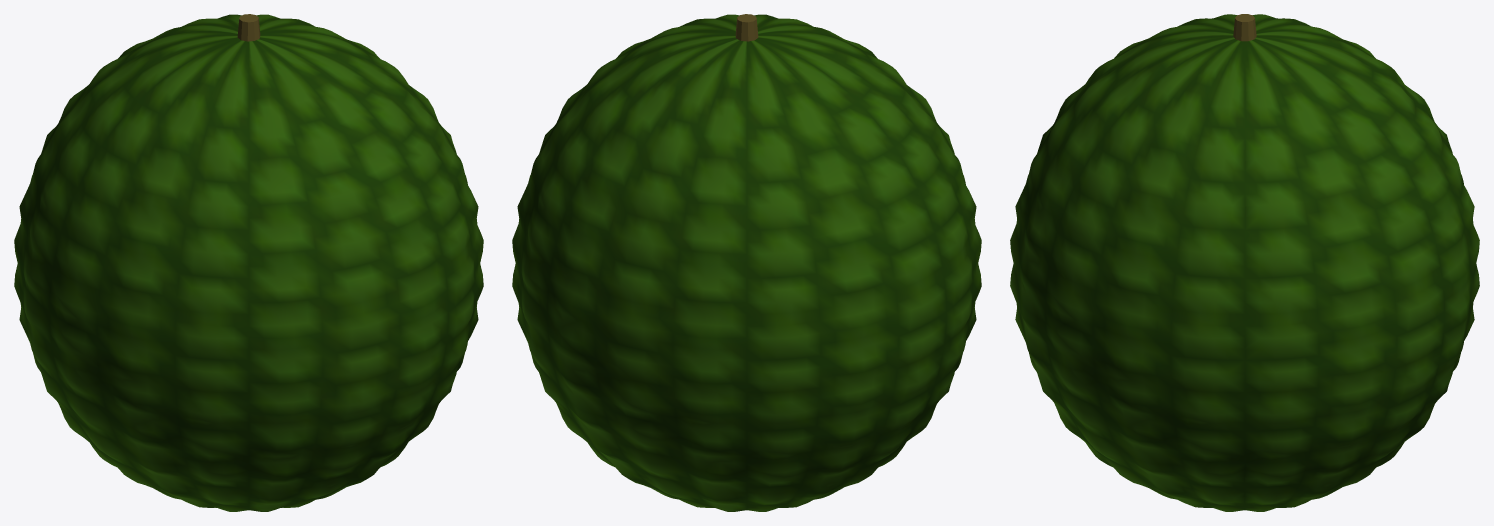
File: fruit-a-pain.glb
3 views of the same model, side by side, from view 1: azimuth 30°, elevation 25°; view 2: azimuth 150°, elevation 25°; view 3: azimuth 270°, elevation 25° (orthographic).
Visible parts, largest first — view 1: entier_peau, moitie_B_peau, moitie_A_peau, entier_extra0; view 2: entier_peau, moitie_A_peau, moitie_B_peau, entier_extra0; view 3: entier_peau, moitie_A_peau, moitie_B_peau, entier_extra0.
Boxes of the visible parts, x1,y1,x2,y2 form: entier_peau: (14,14,483,511); moitie_B_peau: (50,31,483,511); moitie_A_peau: (14,15,379,465); entier_extra0: (237,14,260,41); entier_peau: (512,14,981,511); moitie_A_peau: (513,31,945,511); moitie_B_peau: (621,14,981,459); entier_extra0: (735,14,758,41); entier_peau: (1010,14,1479,511); moitie_A_peau: (1245,15,1477,510); moitie_B_peau: (1010,14,1244,511); entier_extra0: (1233,14,1256,41).
Bounding box in the file's own units: 1.85 × 2.08 × 1.88.
